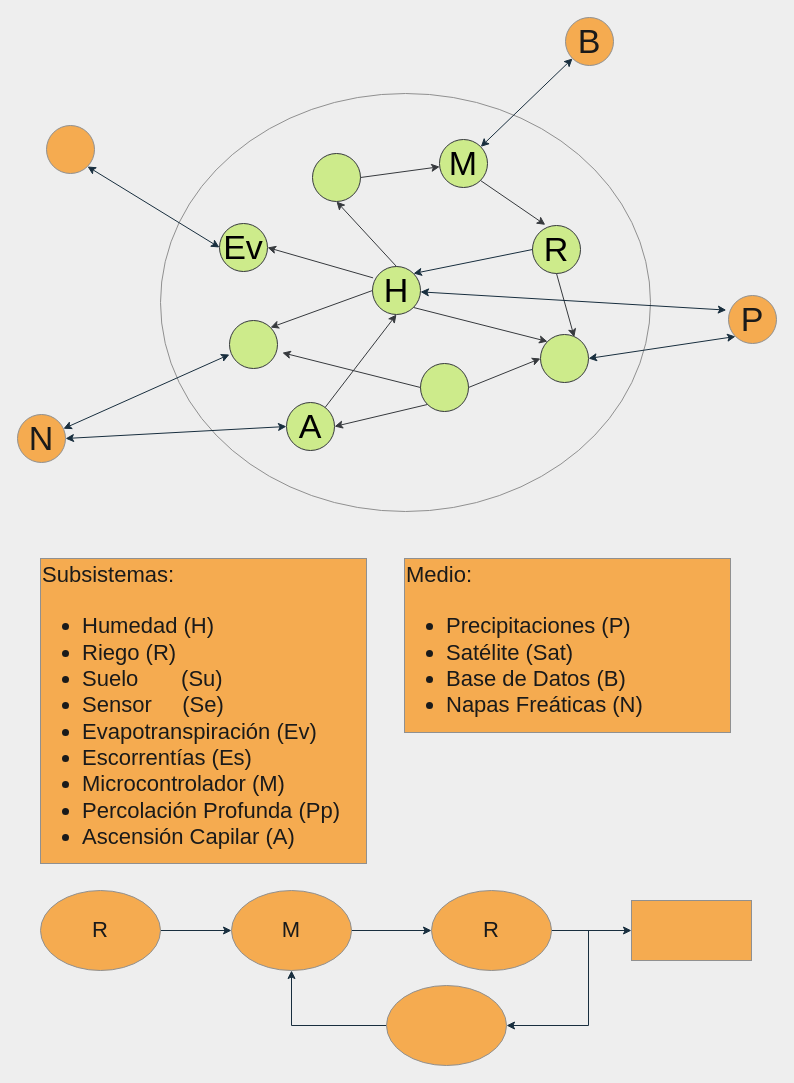
Image size: 794x1083. Some labels were removed from this diagram. The shapes that lost their labels are listed below. From the top down, each one's centre as x and y in pixels, then its label:
At point 70,149: "Sat".
At point 336,177: "Se".
At point 253,344: "Pp".
At point 564,358: "Es".
At point 444,387: "Su".
At point 446,1025: "sensor".
